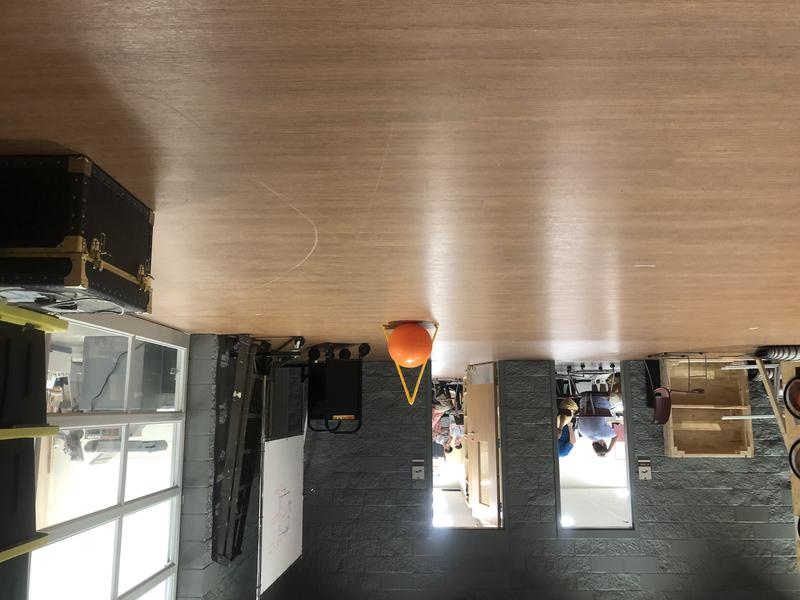ball: (385, 323, 434, 369)
